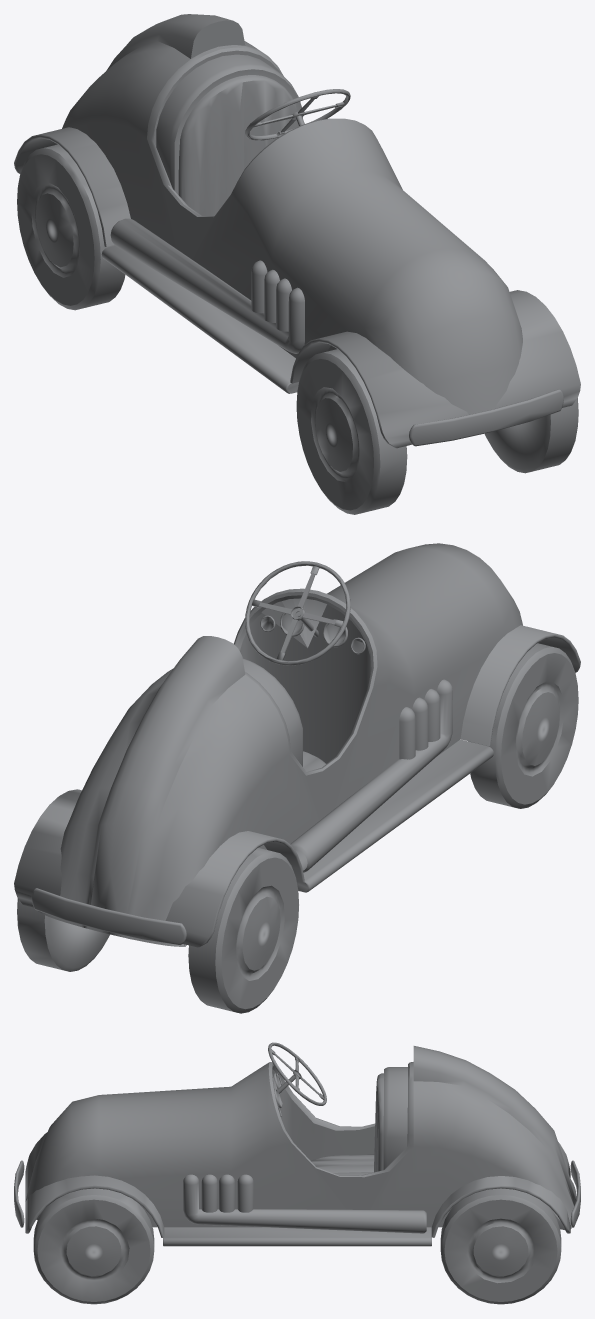
File: voiture.glb
3 views of the same model, one above another, from view 1: azimuth 30°, elevation 25°; view 2: azimuth 150°, elevation 25°; view 3: azimuth 270°, elevation 25° (orthographic). The views are drawn at different scales.
Visible parts, largest first — view 1: Body; view 2: Body; view 3: Body.
Boxes of the visible parts, x1,y1,x2,y2 form: Body: (14,14,580,514); Body: (14,543,580,1013); Body: (14,1042,580,1304).
Bounding box in the file's own units: 0.3152 × 0.4315 × 1.
1 material, 1 textured.
